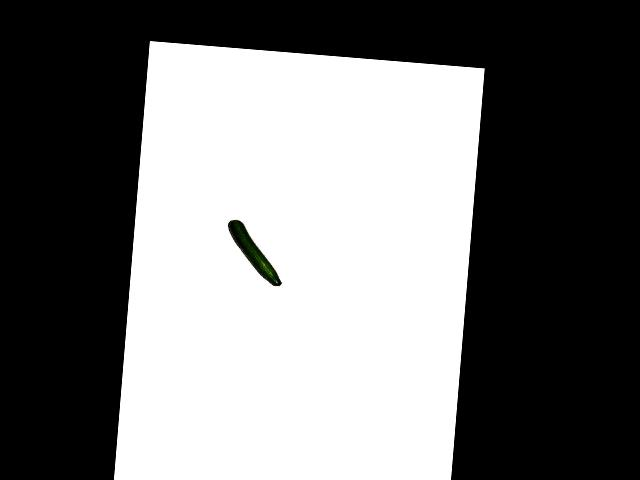cucumber: (223, 219, 286, 286)
